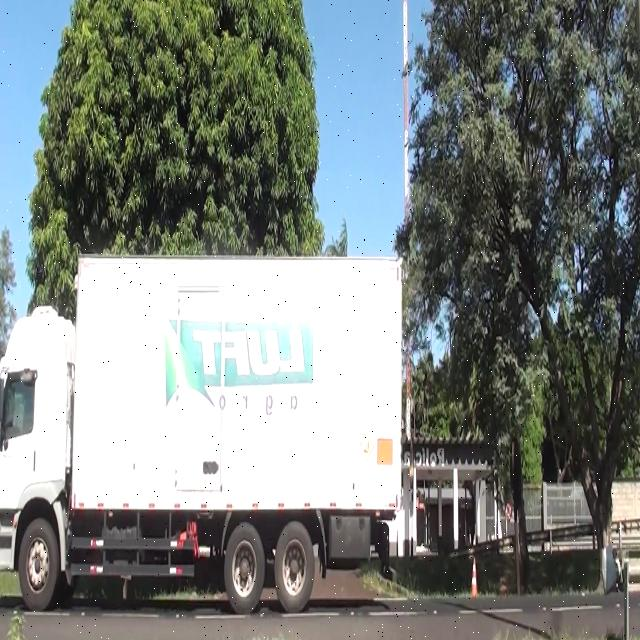-axle: (18, 515, 59, 616), (223, 522, 266, 614), (274, 522, 316, 611)
